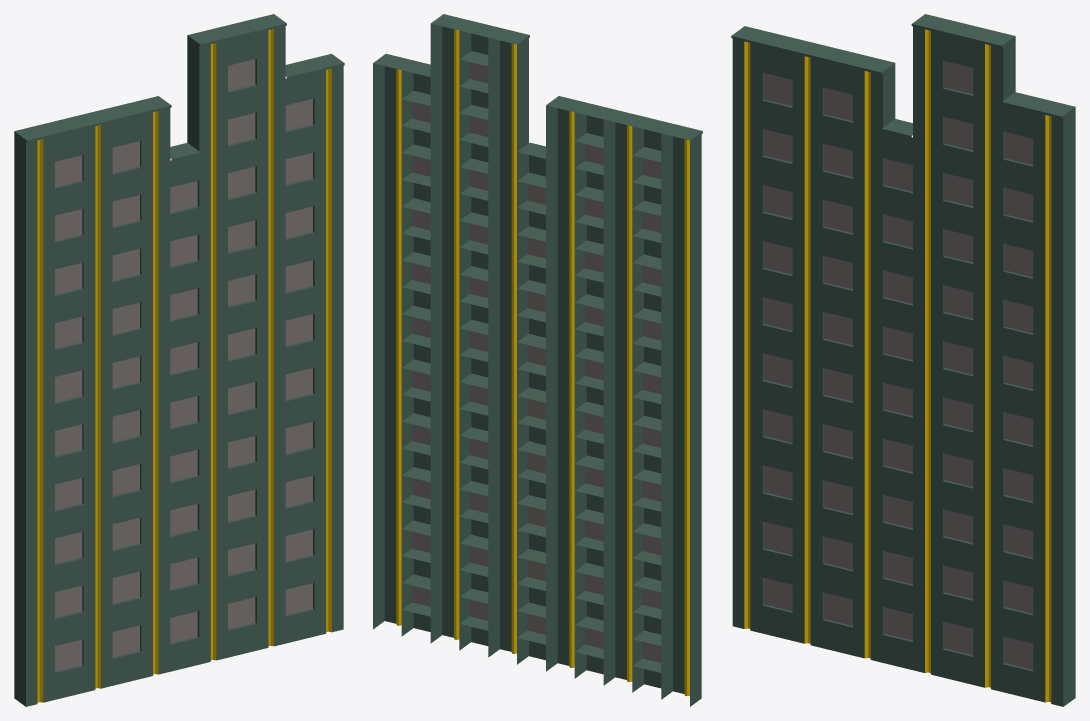
3 renders of one model, left to right at view 1: azimuth 30°, elevation 25°; view 2: azimuth 150°, elevation 25°; view 3: azimuth 330°, elevation 25°, orthographic. The views are drawn at different scales.
Parts seen in each view (by area): view 1: Edificio.003; view 2: Edificio.003; view 3: Edificio.003.
Boxes of the visible parts, bbox=[...] form: Edificio.003: bbox=[14, 14, 344, 706]; Edificio.003: bbox=[373, 14, 702, 706]; Edificio.003: bbox=[731, 14, 1075, 706].
Size of the model in its own units: 3063 by 5726 by 217.
